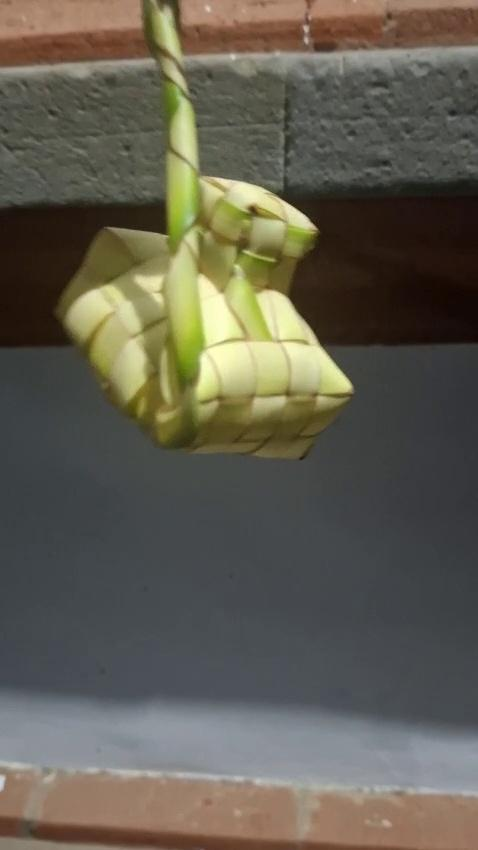Tipat Gong: (61, 2, 353, 459)
